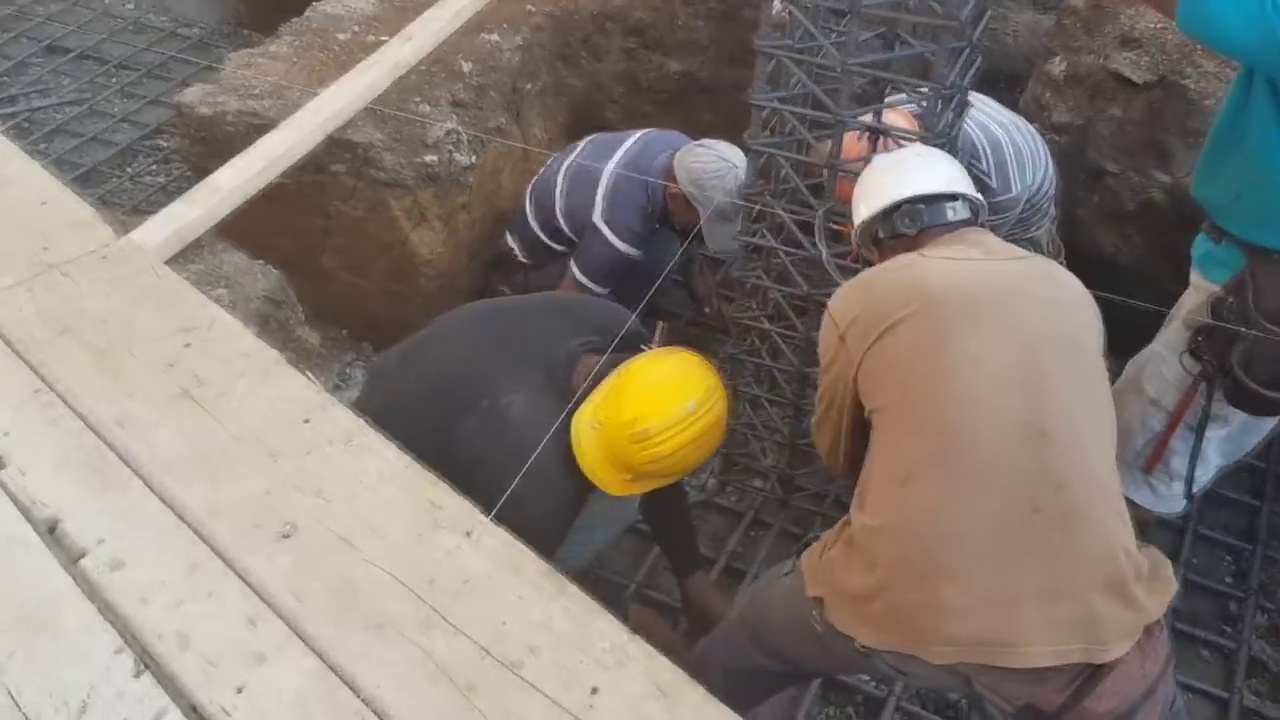helmet: (571, 346, 732, 502), (842, 134, 996, 245), (818, 102, 930, 192)
helmet-off: (651, 150, 750, 237)
helmet-on: (564, 333, 730, 512), (844, 140, 998, 275), (821, 91, 961, 191)
person: (727, 138, 1163, 720), (357, 295, 738, 638), (1114, 0, 1280, 544), (483, 128, 750, 333), (814, 76, 1071, 267)
